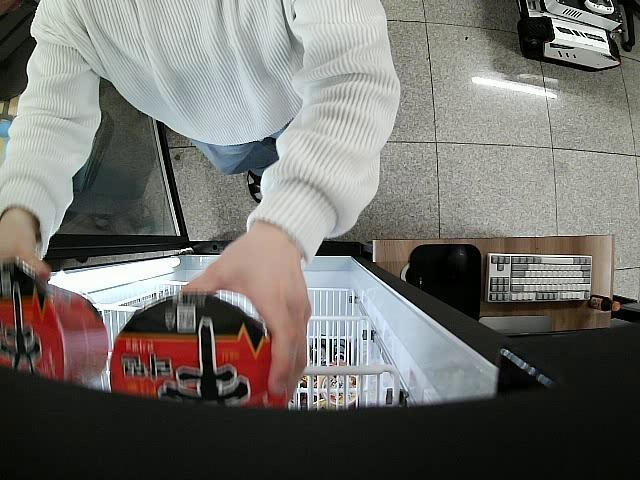01_ShinRamen_L: (112, 293, 288, 409), (0, 269, 109, 388)
